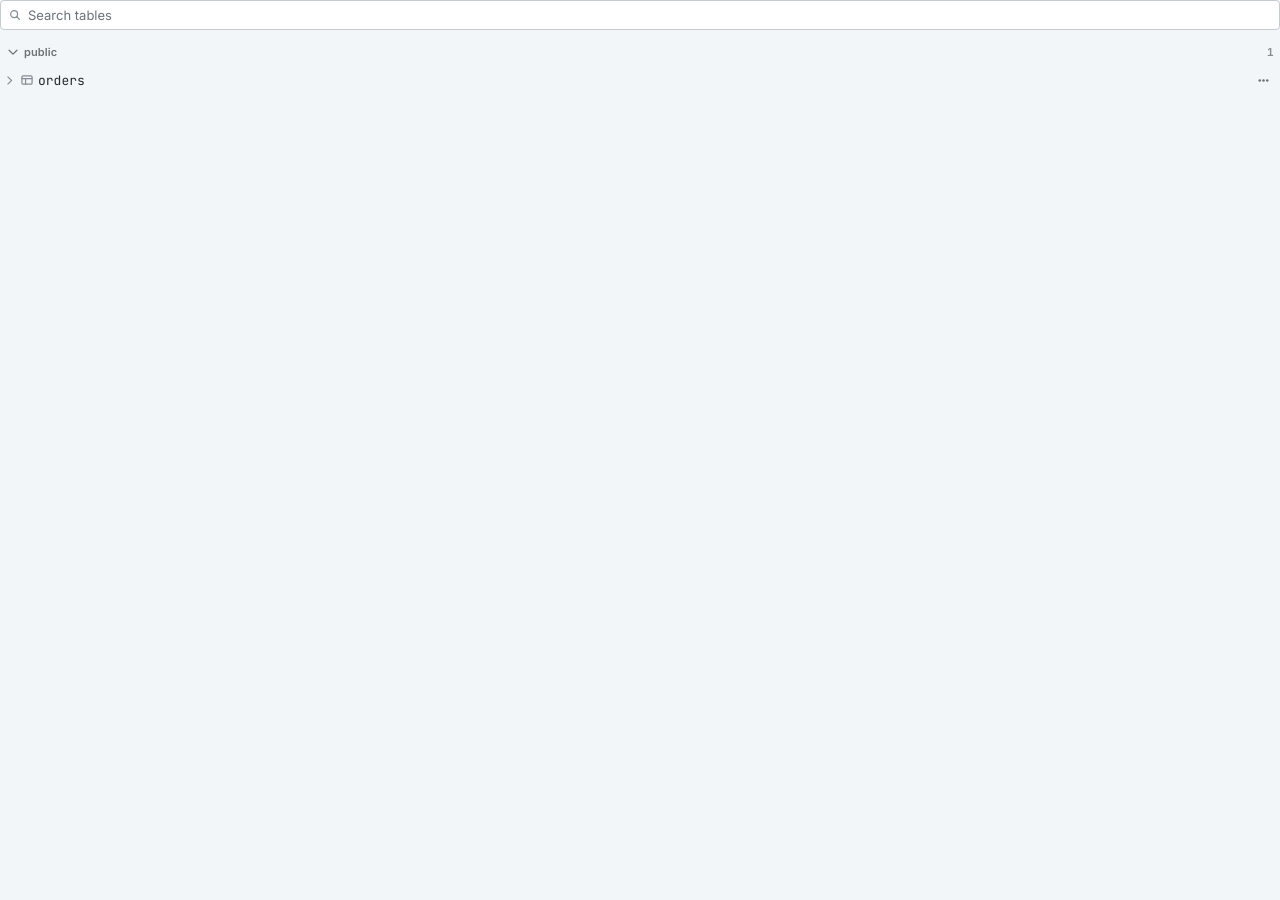
TableList › shows an error on the DDL sheet when generateTableDdl rejects, instead of throwing unhandled
Step 1. Click the button named "Table actions" → (1263, 80), box [1250,67,1276,93]
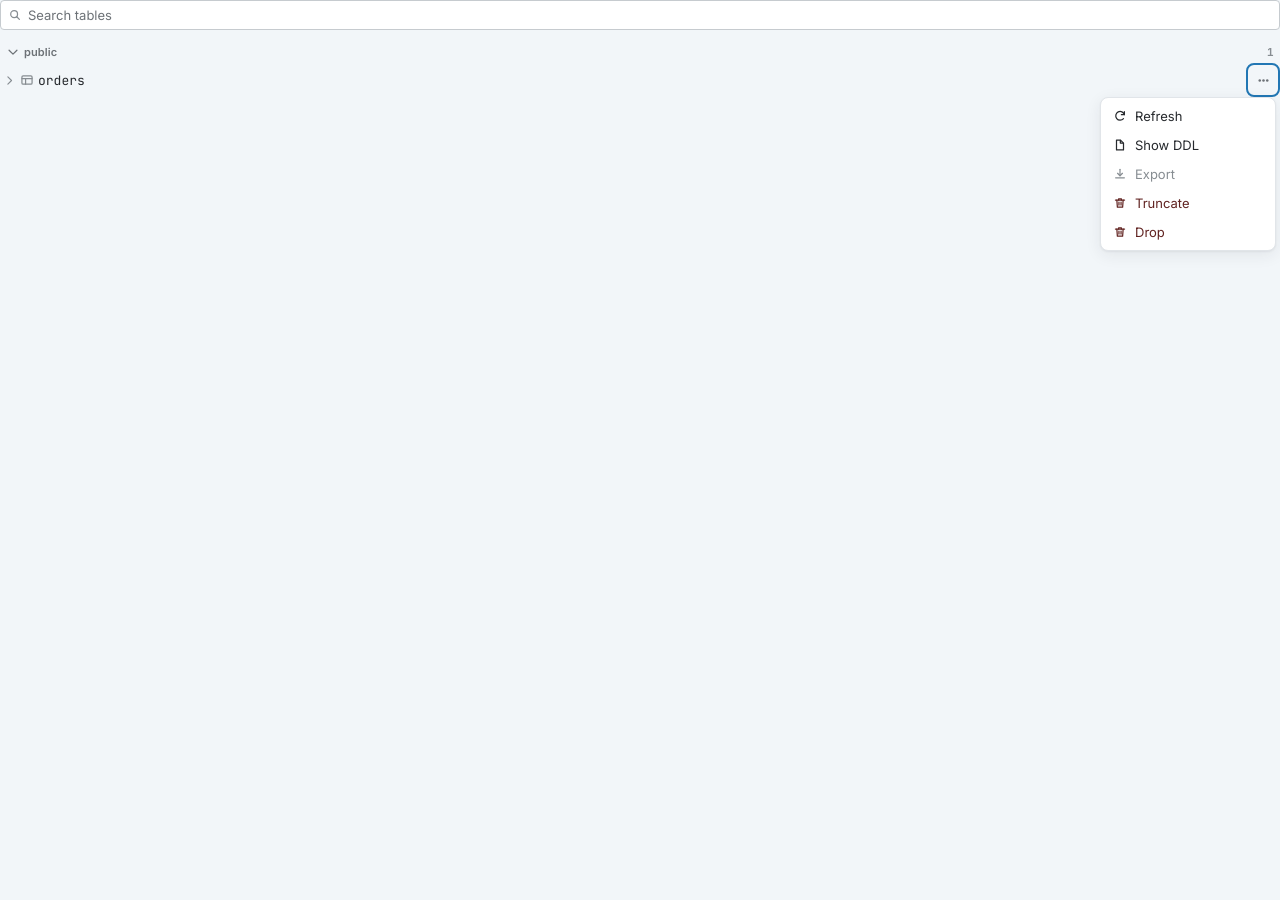
Step 2. Click the menu item "Show DDL" → (1188, 145), box [1105,131,1271,159]
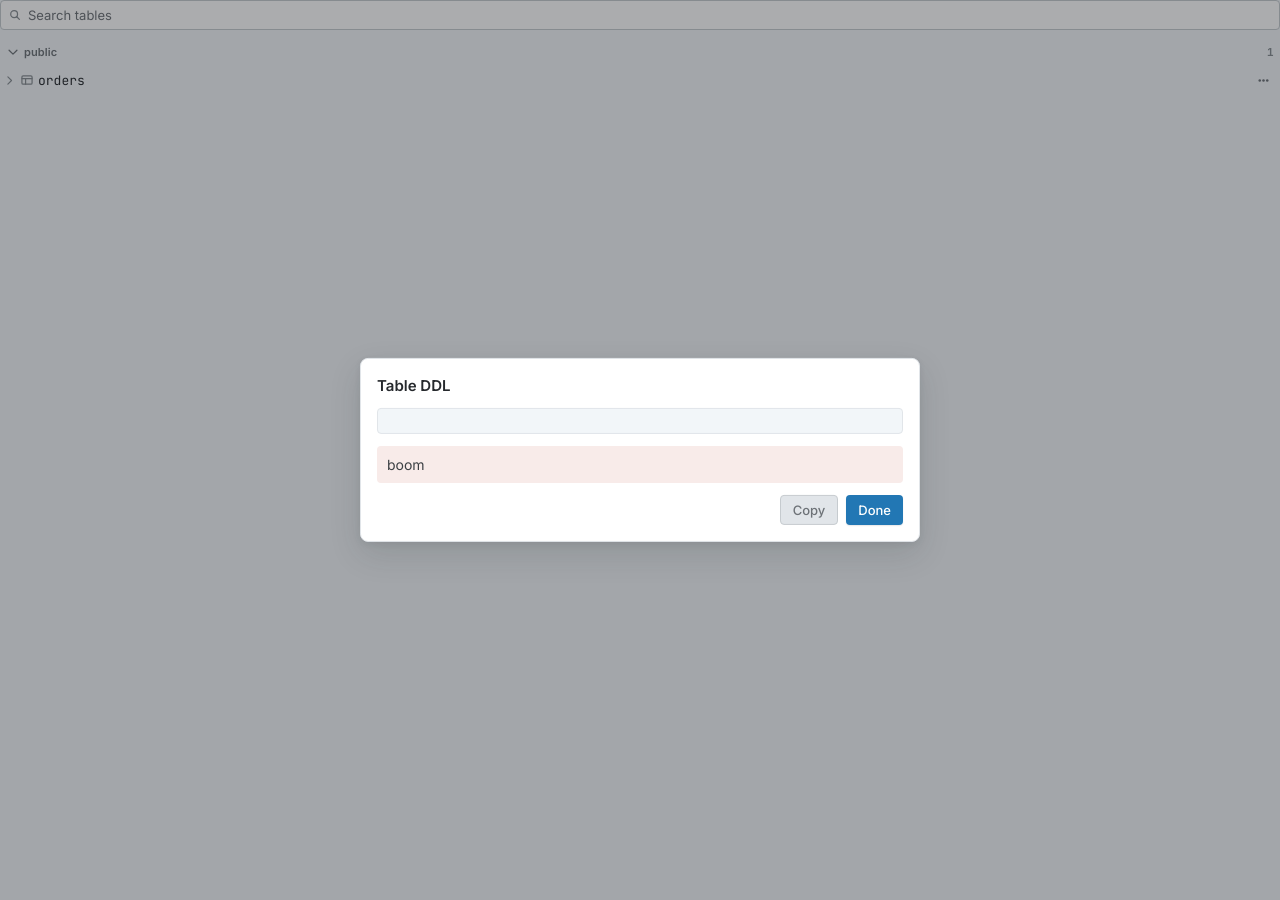
Expected: the text "boom" is shown, [377,446,903,483]
